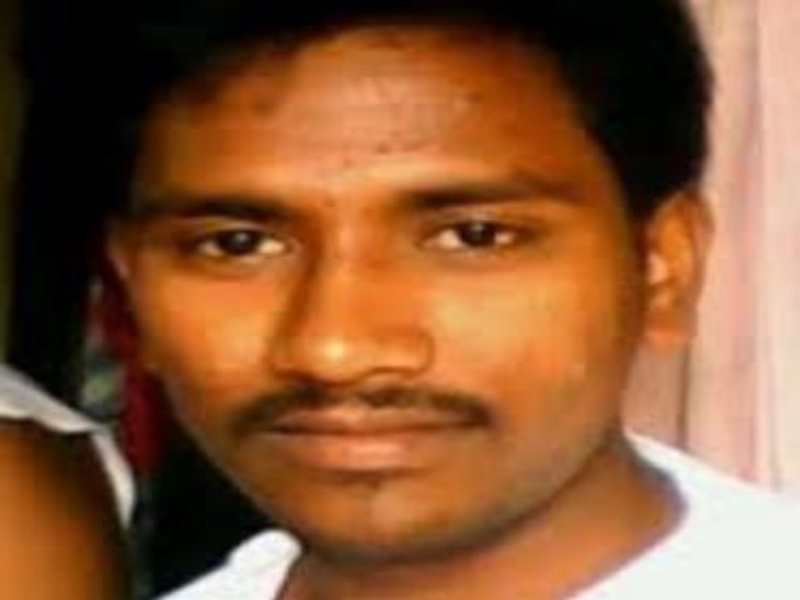TsisyArotava: (77, 21, 707, 577)
